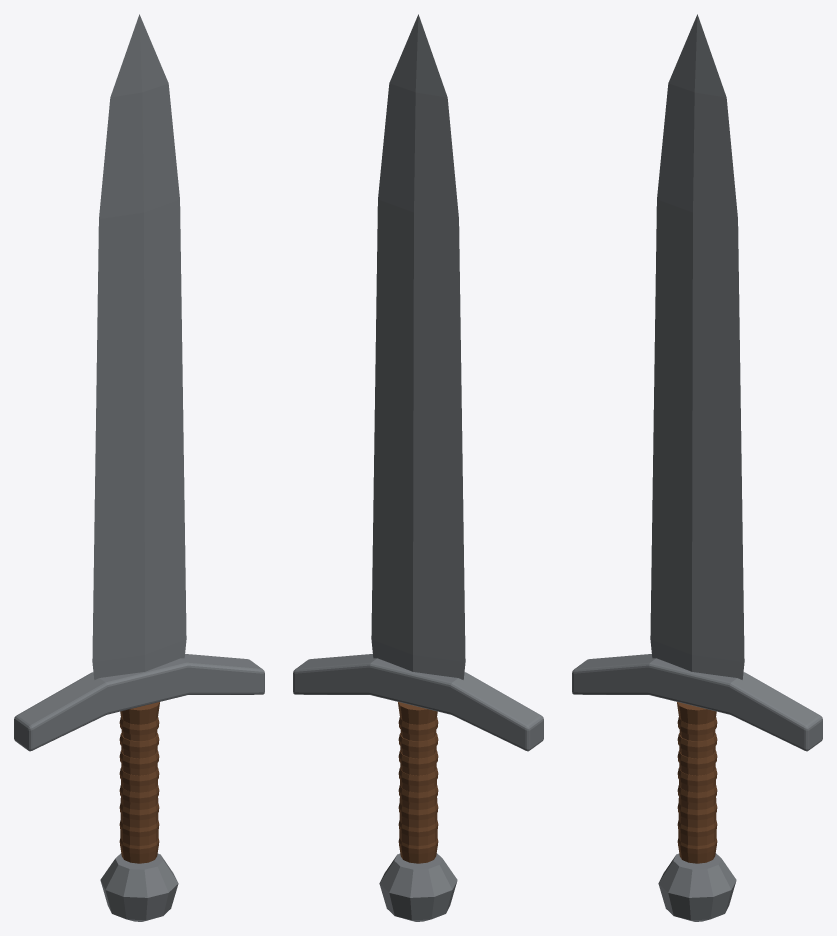
Rendered from WarriorSword.glb.
3 views of the same model, side by side, from view 1: azimuth 30°, elevation 25°; view 2: azimuth 150°, elevation 25°; view 3: azimuth 330°, elevation 25° (orthographic).
Parts seen in each view (by area): view 1: Blade, Guard, Pommel, Grip; view 2: Blade, Guard, Pommel, Grip; view 3: Blade, Guard, Pommel, Grip.
Part boxes in pixels (x1=…): Blade: x1=92, y1=14, x2=186, y2=679; Guard: x1=14, y1=654, x2=264, y2=751; Pommel: x1=100, y1=853, x2=178, y2=921; Grip: x1=120, y1=702, x2=159, y2=863; Blade: x1=371, y1=14, x2=465, y2=679; Guard: x1=293, y1=654, x2=543, y2=751; Pommel: x1=379, y1=853, x2=457, y2=921; Grip: x1=398, y1=702, x2=437, y2=863; Blade: x1=650, y1=14, x2=744, y2=679; Guard: x1=572, y1=654, x2=822, y2=751; Pommel: x1=658, y1=853, x2=736, y2=921; Grip: x1=677, y1=702, x2=716, y2=863.
Bounding box in the file's own units: 0.146 × 0.532 × 0.0399.
